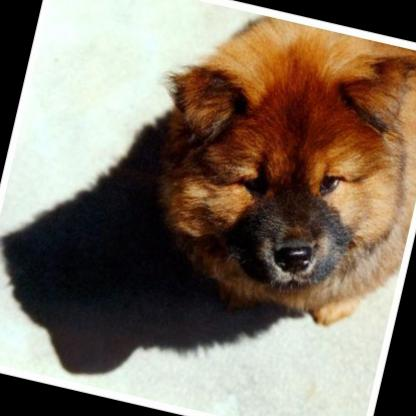chow: (116, 0, 416, 340)
